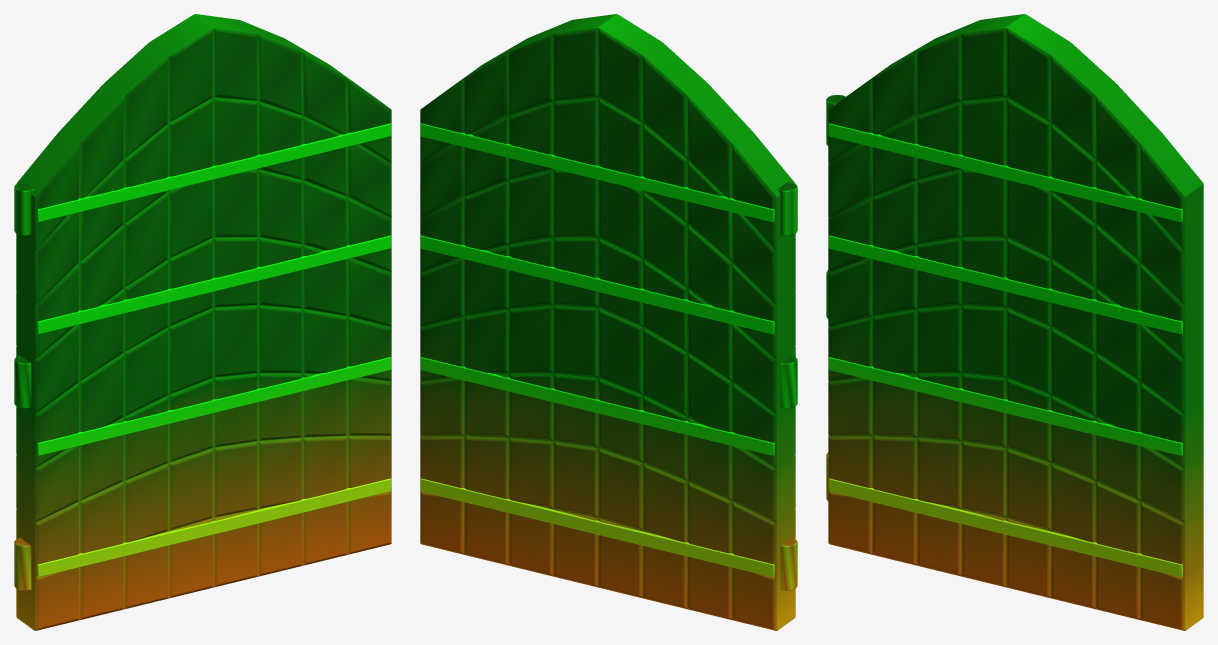
Rendered from DOOR_BossMonumentalGate.fbx.
3 renders of one model, left to right at view 1: azimuth 30°, elevation 25°; view 2: azimuth 150°, elevation 25°; view 3: azimuth 330°, elevation 25°, orthographic.
Parts seen in each view (by area): view 1: DOOR_BossMonumentalGate_LOD0; view 2: DOOR_BossMonumentalGate_LOD0; view 3: DOOR_BossMonumentalGate_LOD0.
Boxes of the visible parts, x1,y1,x2,y2 form: DOOR_BossMonumentalGate_LOD0: (14, 14, 391, 630); DOOR_BossMonumentalGate_LOD0: (420, 14, 797, 630); DOOR_BossMonumentalGate_LOD0: (826, 14, 1203, 630).
Size of what is drawn, in the model's own units: 411 by 600 by 42.
